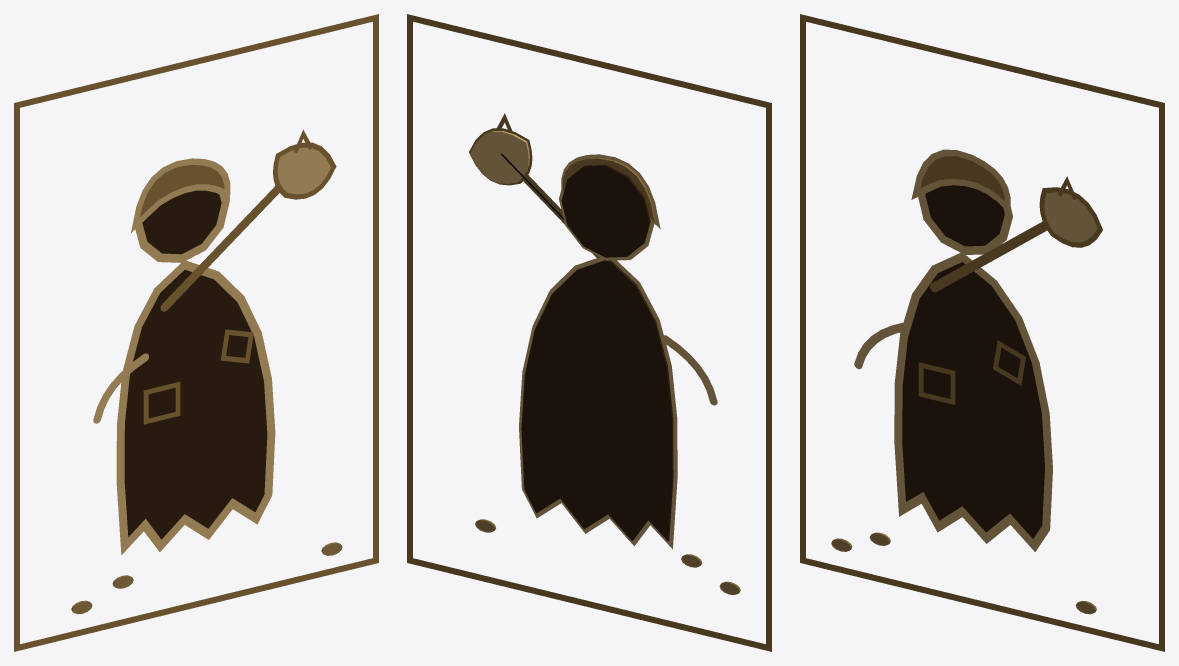
File: npc-beglets.glb
3 views of the same model, side by side, from view 1: azimuth 30°, elevation 25°; view 2: azimuth 150°, elevation 25°; view 3: azimuth 330°, elevation 25° (orthographic).
Visible parts, largest first — view 1: npc-beglets; view 2: npc-beglets; view 3: npc-beglets.
Boxes of the visible parts, x1=… form: npc-beglets: x1=14, y1=14, x2=378, y2=651; npc-beglets: x1=407, y1=14, x2=771, y2=651; npc-beglets: x1=800, y1=14, x2=1164, y2=651.
Bounding box in the file's own units: 1.14 × 1.64 × 0.09.
